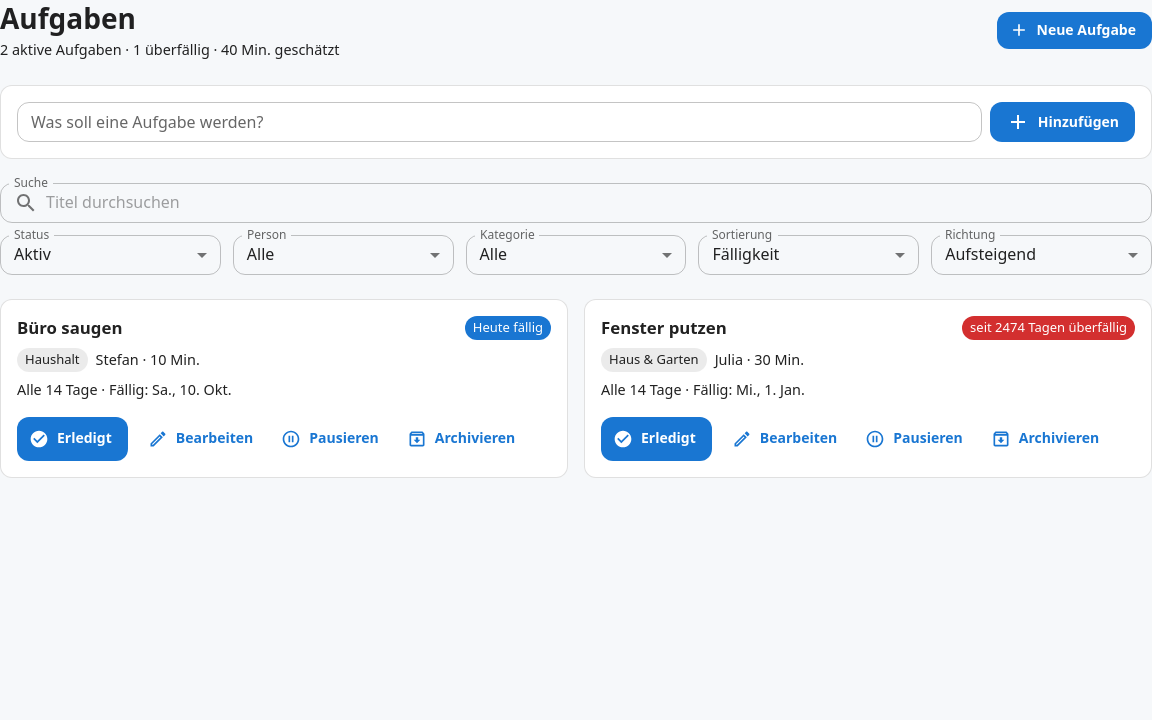
Test: TennersPage › shows an alert when archiving fails
Click the button with aria-label "„Büro saugen“ archivieren". click: (463, 439)
box: [403,420,523,457]
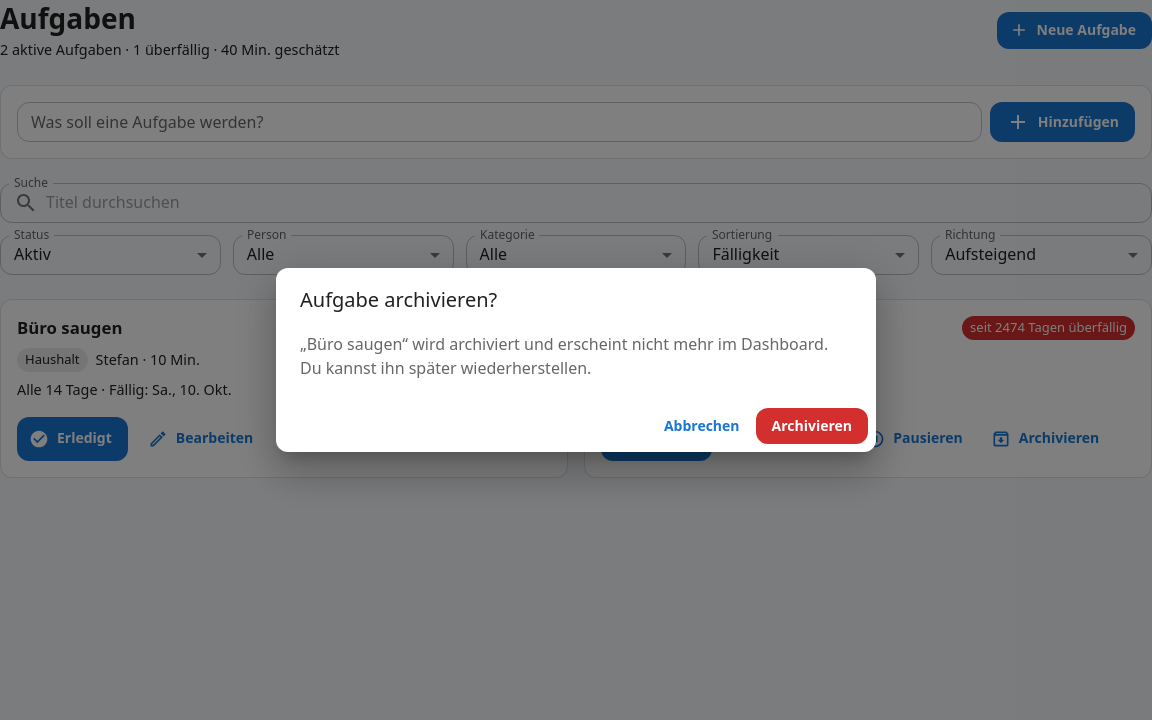
Click the button "Archivieren". click: (812, 426)
box: [756,408,868,444]
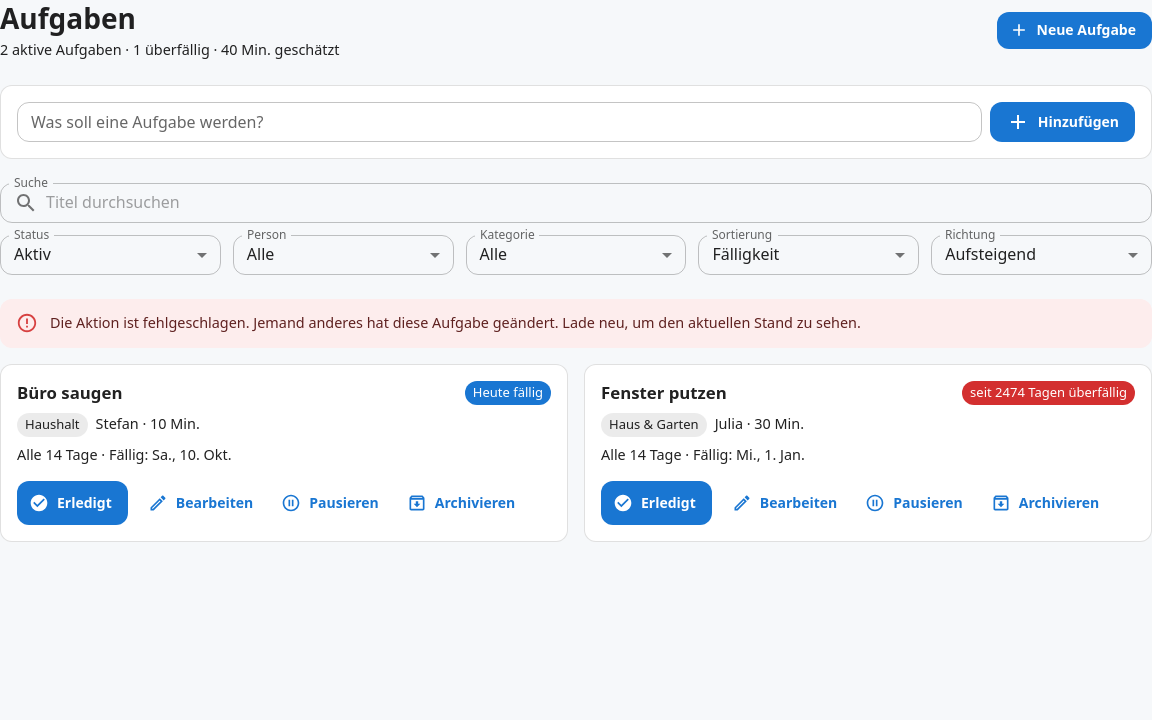
Expected: the text "Die Aktion ist fehlgeschlagen. Jemand anderes hat diese Aufgabe geändert. Lade neu, um den aktuellen Stand zu sehen." is shown, [50,313,861,332]
